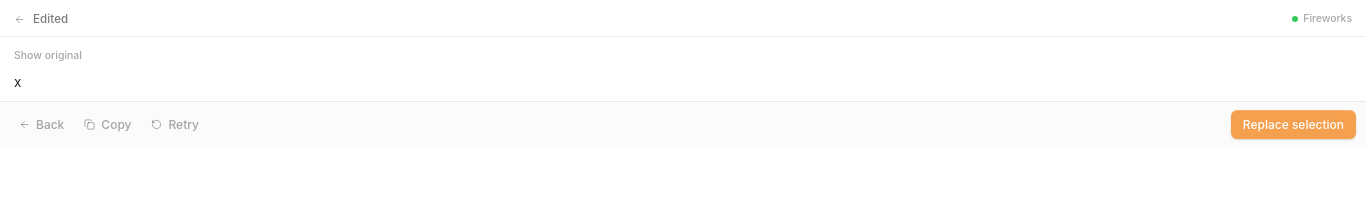
<ResultView /> › 'Show original' toggles the SelectionPreview
expect the text "original sentence" is not shown: met
Click the button "Show original": (48, 57) top-left (14, 49), bottom-right (82, 64)
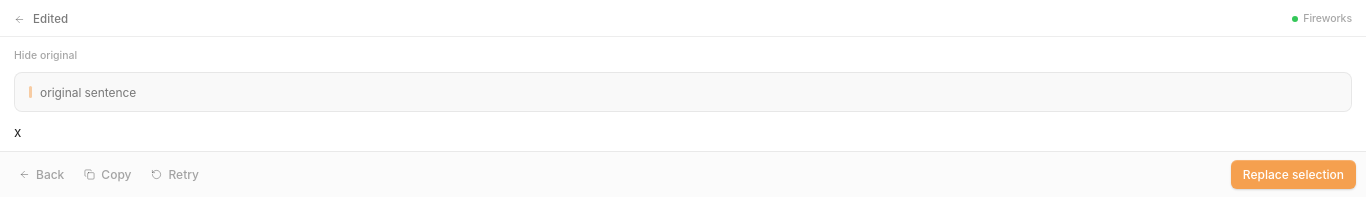
expect the text "original sentence" is shown: met, box top-left (40, 85), bottom-right (136, 100)
Click the button "Hide original": (46, 57) top-left (14, 49), bottom-right (77, 64)
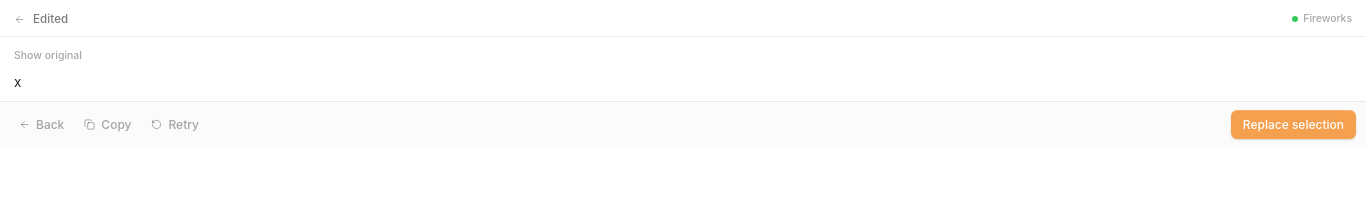
expect the text "original sentence" is gone: met
